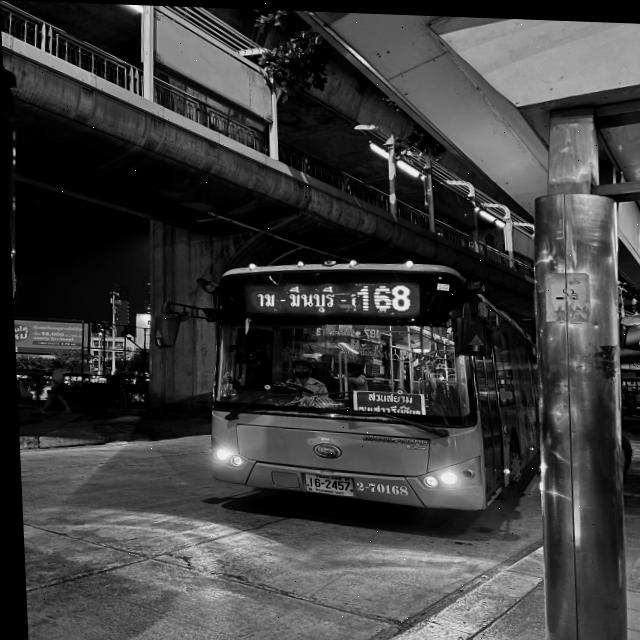BMTA-bus: (198, 255, 539, 513)
Bus-Line-Number: (348, 276, 418, 312)
Destination-Sign-Normal: (352, 386, 417, 412)
